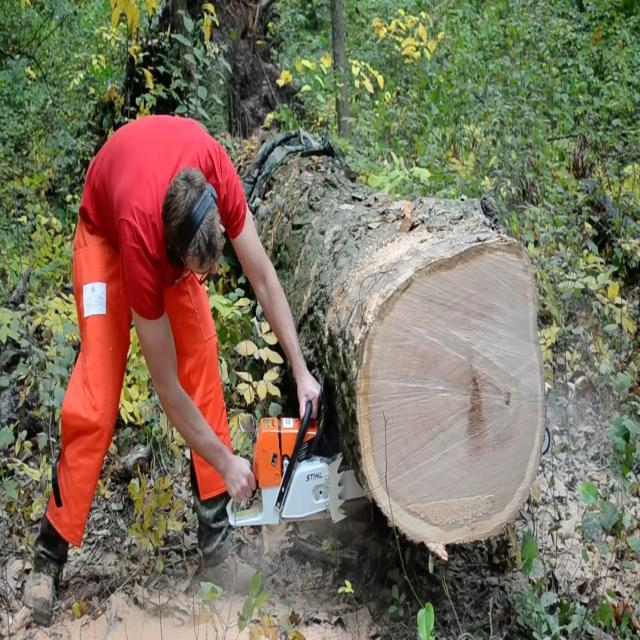Chainsaw: (206, 386, 378, 534)
